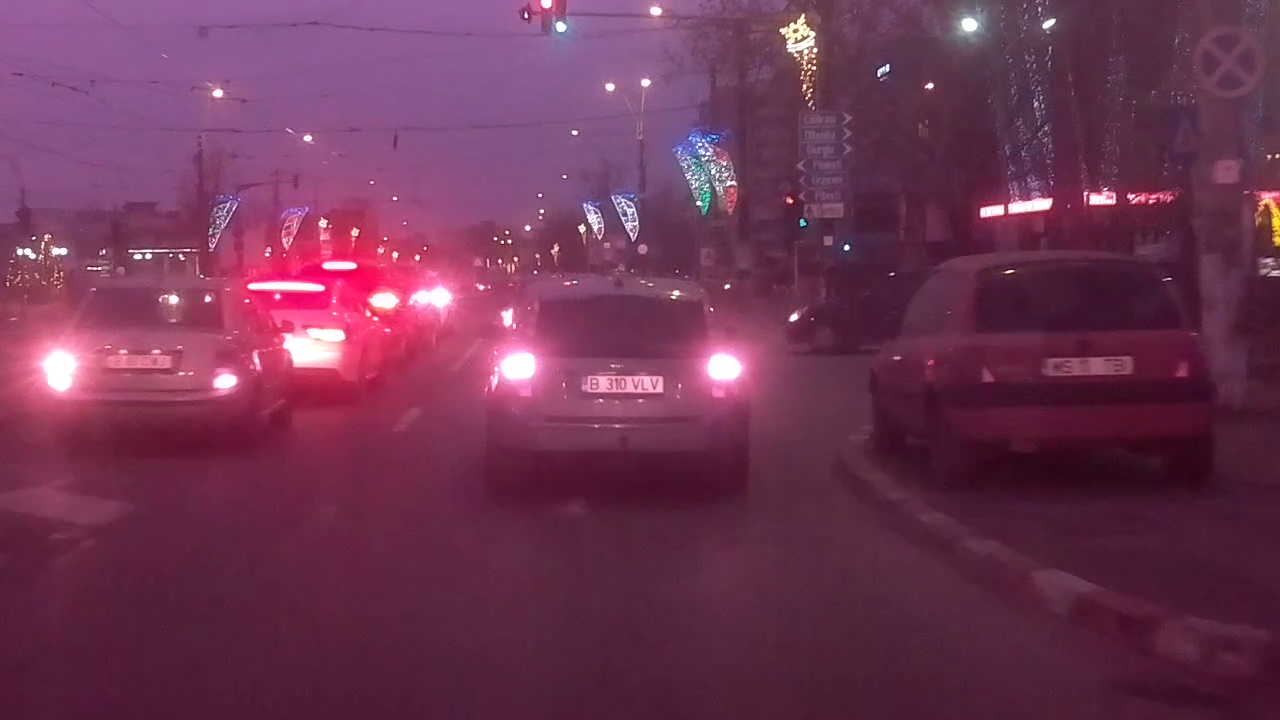license-plate: (575, 372, 668, 396)
